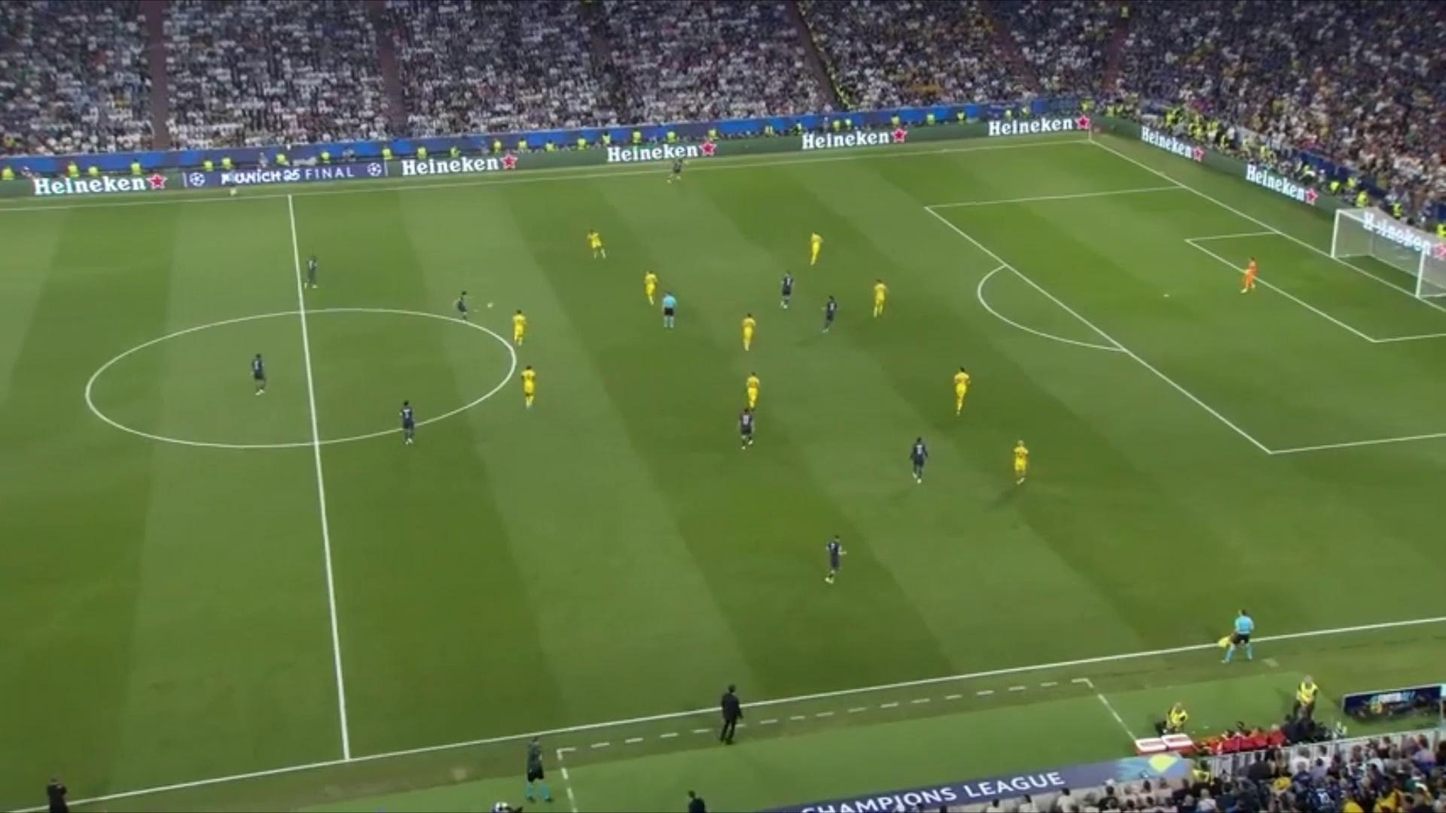ball: (483, 295, 498, 315)
player_A: (824, 532, 850, 591), (299, 247, 325, 300), (666, 145, 695, 189), (908, 433, 931, 486), (734, 402, 758, 451), (248, 350, 272, 397), (398, 399, 420, 449), (452, 287, 478, 329), (774, 266, 797, 312), (823, 293, 840, 334)
player_B: (948, 361, 974, 418), (1007, 437, 1033, 487), (582, 225, 613, 265), (519, 357, 540, 412), (804, 226, 828, 271), (508, 305, 532, 347), (741, 364, 763, 409), (869, 276, 891, 320), (738, 308, 758, 352), (640, 265, 658, 307)
player_B_goal_keeper: (1238, 254, 1261, 298)
referee: (1214, 603, 1261, 668), (523, 730, 559, 806), (660, 286, 679, 334), (223, 160, 244, 201)
